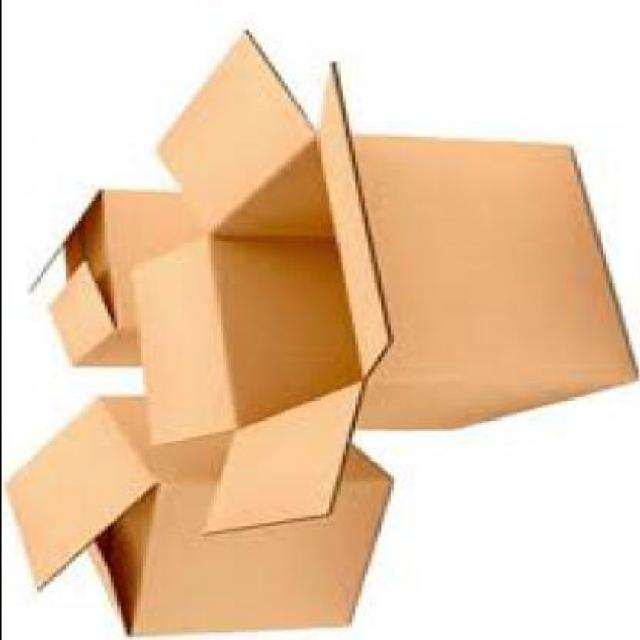CARDBOARD: (129, 28, 637, 530), (1, 392, 392, 637), (23, 187, 177, 364)
